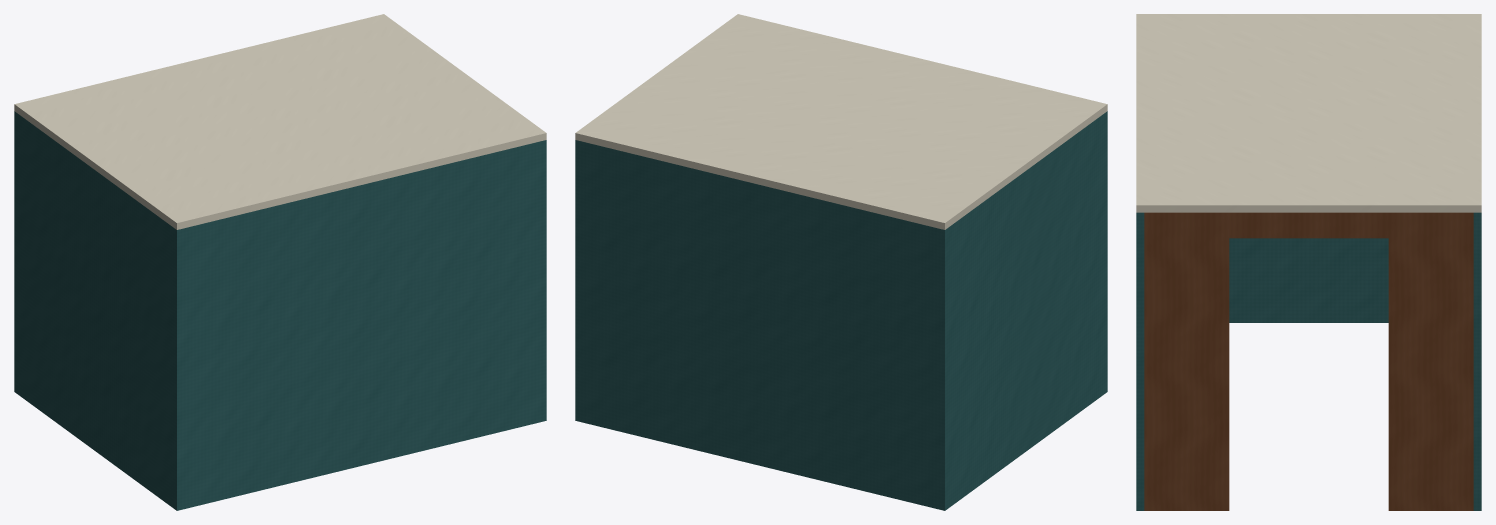
The model's file is QuietGroveEnclosure_385_r002.glb.
3 views of the same model, side by side, from view 1: azimuth 30°, elevation 25°; view 2: azimuth 150°, elevation 25°; view 3: azimuth 270°, elevation 25° (orthographic). The views are drawn at different scales.
Parts seen in each view (by area): view 1: QG385_Cocoon01_LeftLiner, QG385_Cocoon01_Roof, QG385_Cocoon01_RearLiner, QG385_Cocoon01_RightLiner; view 2: QG385_Cocoon01_RightLiner, QG385_Cocoon01_Roof, QG385_Cocoon01_RearLiner, QG385_Cocoon01_LeftLiner; view 3: QG385_Cocoon01_Roof, QG385_Cocoon01_FrontLeftJamb, QG385_Cocoon01_FrontRightJamb, QG385_Cocoon01_RearLiner, QG385_Cocoon01_DoorHeader, QG385_Cocoon01_LeftLiner, QG385_Cocoon01_RightLiner.
Part boxes in pixels (bbox=[...]): QG385_Cocoon01_LeftLiner: bbox=[173, 140, 546, 510]; QG385_Cocoon01_Roof: bbox=[14, 14, 546, 229]; QG385_Cocoon01_RearLiner: bbox=[18, 114, 173, 507]; QG385_Cocoon01_RightLiner: bbox=[14, 111, 18, 394]; QG385_Cocoon01_RightLiner: bbox=[575, 140, 948, 510]; QG385_Cocoon01_Roof: bbox=[575, 14, 1107, 229]; QG385_Cocoon01_RearLiner: bbox=[948, 114, 1103, 507]; QG385_Cocoon01_LeftLiner: bbox=[1103, 111, 1107, 394]; QG385_Cocoon01_Roof: bbox=[1136, 14, 1481, 212]; QG385_Cocoon01_FrontLeftJamb: bbox=[1144, 212, 1229, 510]; QG385_Cocoon01_FrontRightJamb: bbox=[1388, 212, 1473, 510]; QG385_Cocoon01_RearLiner: bbox=[1229, 238, 1388, 322]; QG385_Cocoon01_DoorHeader: bbox=[1229, 212, 1388, 238]; QG385_Cocoon01_LeftLiner: bbox=[1136, 212, 1144, 510]; QG385_Cocoon01_RightLiner: bbox=[1473, 212, 1481, 510].
Size of the model in its own units: 3.36 by 2.5 by 2.56.
Materials: 3 (3 with a texture image).
